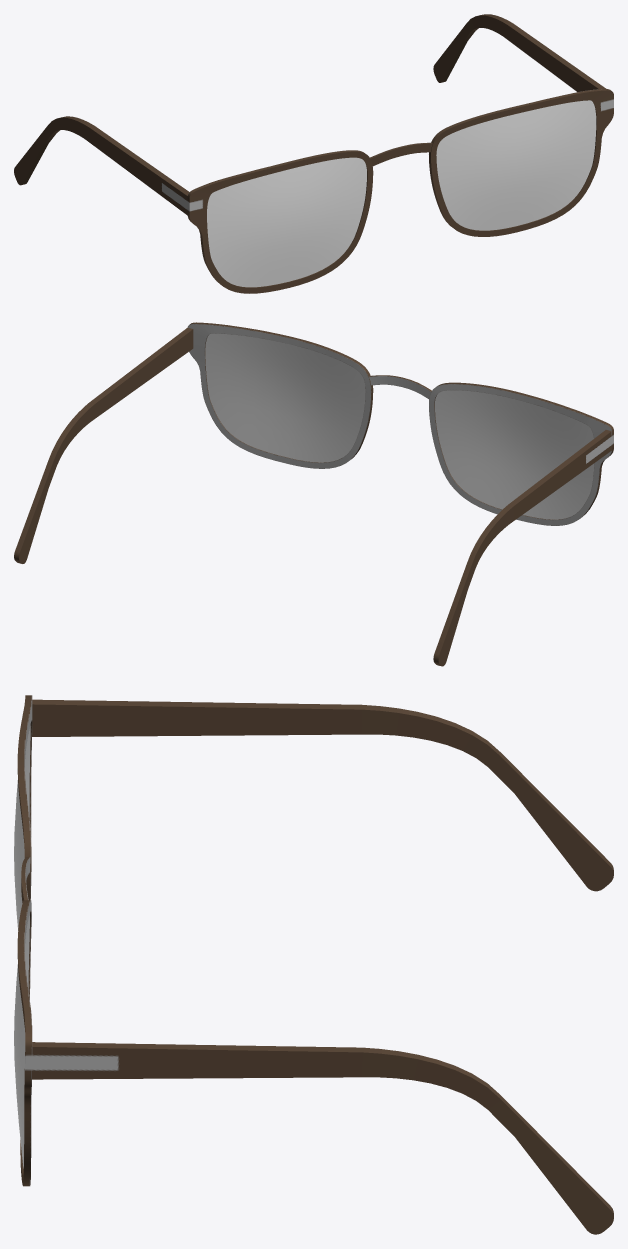
The model's file is PRADA Glasses Full Res Shorter Arms.fbx.
3 renders of one model, top to bottom at view 1: azimuth 30°, elevation 25°; view 2: azimuth 150°, elevation 25°; view 3: azimuth 270°, elevation 25°, orthographic. The views are drawn at different scales.
Parts seen in each view (by area): view 1: PRADA Glasses Full Res Shorter Arms; view 2: PRADA Glasses Full Res Shorter Arms; view 3: PRADA Glasses Full Res Shorter Arms.
Boxes of the visible parts, x1,y1,x2,y2 form: PRADA Glasses Full Res Shorter Arms: (14,14,613,293); PRADA Glasses Full Res Shorter Arms: (14,322,613,666); PRADA Glasses Full Res Shorter Arms: (14,695,613,1234).
Size of the model in its own units: 0.1671 by 0.0471 by 0.1219.
